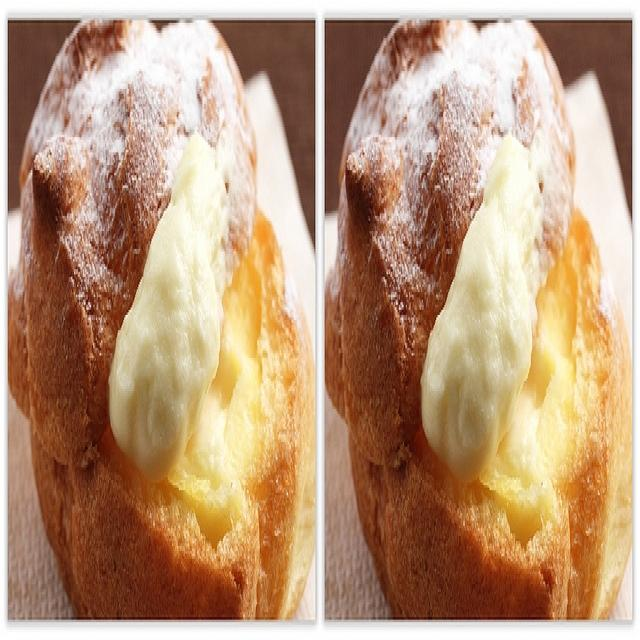炸货点心: (16, 28, 624, 617)
蛋糕甜品: (16, 28, 624, 617)
